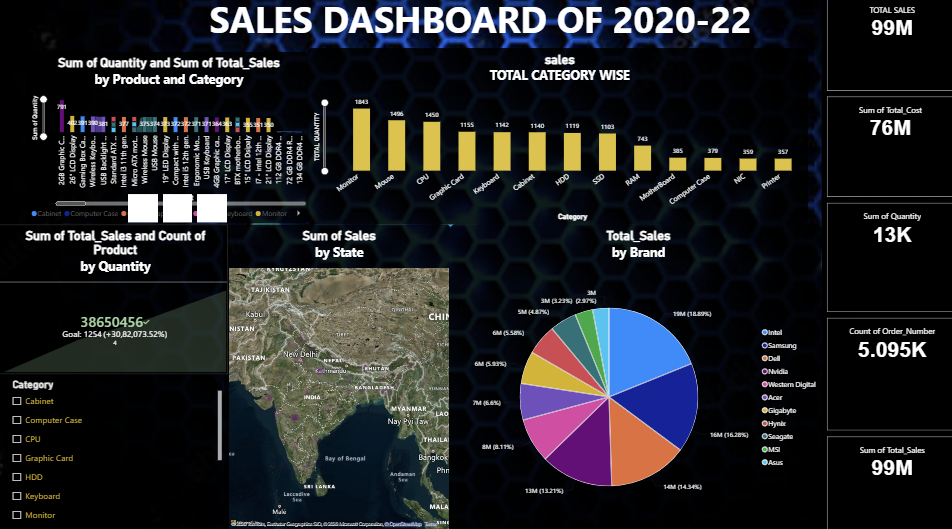

What the dashboard file says about the page in this screenshot:
{"tool":"powerbi","page":{"name":"Page 1","canvas":[1920,1080],"ordinal":0},"visuals":[{"type":"textbox","box":[10,0,1910,1080],"z":0},{"type":"cardVisual","title":"sales","fields":{"Data":["Sum(Sales_Data.Total_Sales)","Sum(Sales_Data.Total_Sales)"]},"box":[1647.5,0,272.5,200],"z":1000},{"type":"cardVisual","title":"sales","fields":{"Data":["Sum(Sales_Data.Total_Cost)"]},"box":[1647.5,200,265,212.5],"z":2000},{"type":"cardVisual","title":"sales","fields":{"Data":["Sum(Sales_Data.Quantity)"]},"box":[1647.5,412.5,272.5,230],"z":3000},{"type":"cardVisual","title":"sales","fields":{"Data":["CountNonNull(Sales_Data.Order_Number)"]},"box":[1647.5,642.5,272.5,237.5],"z":4000},{"type":"clusteredColumnChart","title":"sales","fields":{"Category":["Sales_Data.Category"],"Y":["Sum(Sales_Data.Quantity)"]},"box":[460,112.5,1002.5,352.5],"z":5000},{"type":"cardVisual","title":"sales","fields":{"Data":["Sum(Sales_Data.Total_Sales)"]},"box":[1647.5,880,272.5,200],"z":6000},{"type":"pieChart","fields":{"Category":["Sales_Data.Brand"],"Y":["Sum(Sales_Data.Total_Sales)"]},"box":[756.7,491.7,743.3,361.7],"z":6002},{"type":"map","fields":{"Category":["State_list.State"]},"box":[100,400,300,300],"z":6003}]}

Visuals, with their boxes in screenshot pixels (x1, y1, x2, y2), scaled from the page's 1920x1080 canvas onto the 952x529 screenshot:
textbox: crop(5, 0, 951, 528)
"sales" cardVisual: crop(817, 0, 951, 98)
"sales" cardVisual: crop(817, 98, 948, 202)
"sales" cardVisual: crop(817, 202, 951, 315)
"sales" cardVisual: crop(817, 315, 951, 431)
"sales" clusteredColumnChart: crop(228, 55, 725, 228)
"sales" cardVisual: crop(817, 431, 951, 528)
pieChart - Sales_Data.Brand x Sum(Sales_Data.Total_Sales): crop(375, 241, 744, 418)
map - State_list.State: crop(50, 196, 198, 343)
